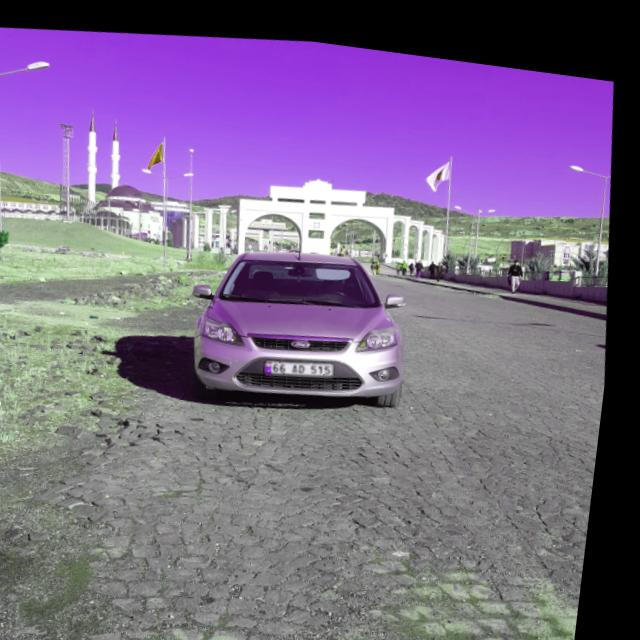license_plate: (271, 346, 342, 372)
